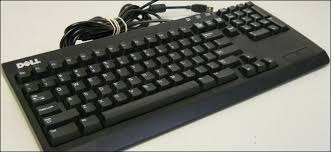keyboard: (1, 0, 331, 152)
